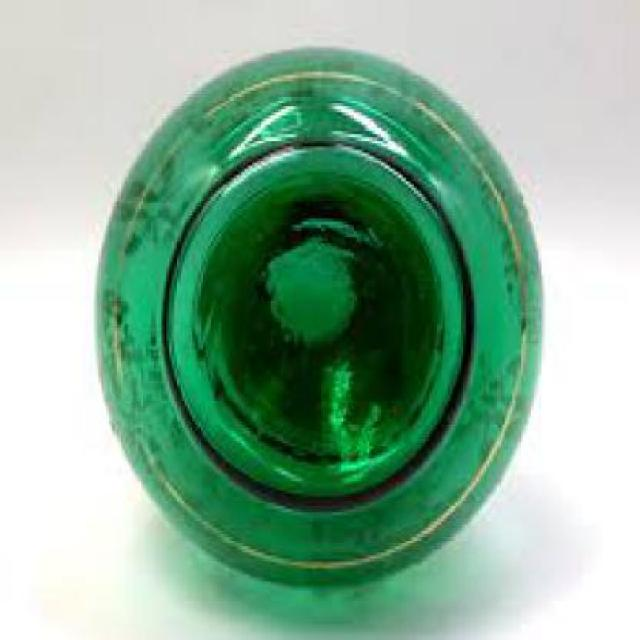kaca: (91, 44, 538, 590)
